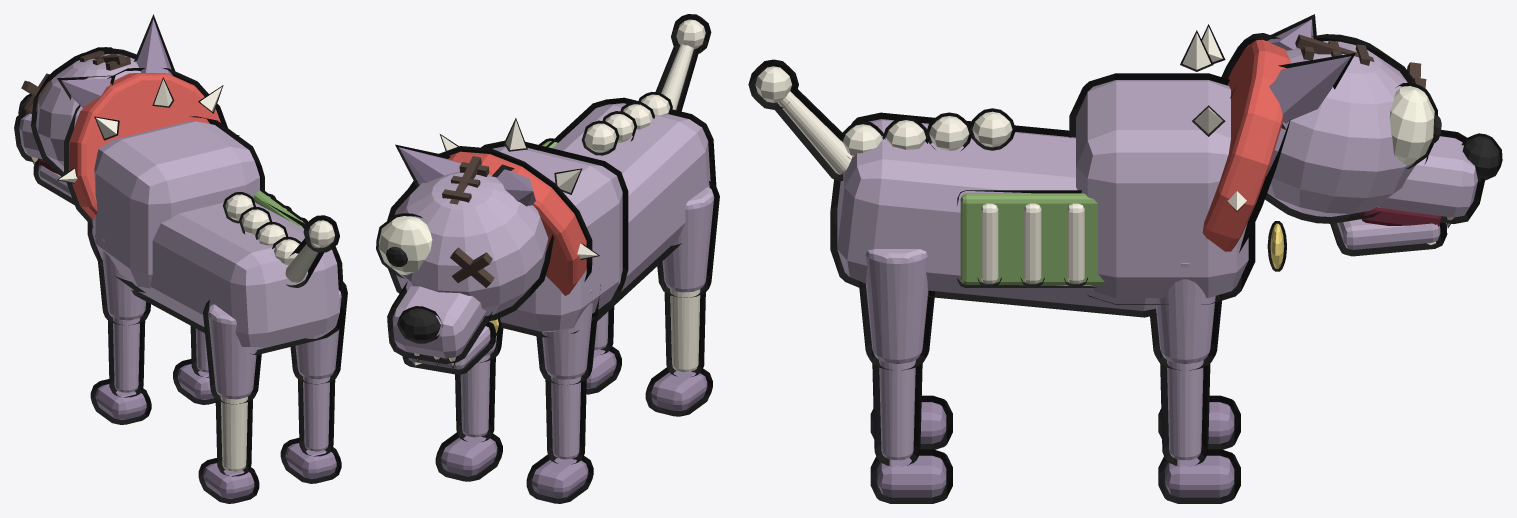
File: mutt_model.glb
3 renders of one model, left to right at view 1: azimuth 30°, elevation 25°; view 2: azimuth 150°, elevation 25°; view 3: azimuth 270°, elevation 25°, orthographic. The views are drawn at different scales.
Visible parts, largest first — view 1: Body, Head, LegBR, LegBL, LegFR, Tail, LegFL; view 2: Body, Head, LegBR, LegFR, LegFL, Tail, LegBL; view 3: Body, Head, LegBL, LegFL, Tail, LegFR, LegBR.
Part boxes in pixels (x1=…): Body: x1=57, y1=68, x2=344, y2=354; Head: x1=14, y1=14, x2=174, y2=204; LegBR: x1=198, y1=300, x2=262, y2=503; LegBL: x1=280, y1=282, x2=347, y2=483; LegFR: x1=90, y1=235, x2=151, y2=424; Tail: x1=285, y1=215, x2=339, y2=287; LegFL: x1=173, y1=326, x2=215, y2=404; Body: x1=408, y1=92, x2=716, y2=337; Head: x1=376, y1=144, x2=553, y2=374; LegBR: x1=645, y1=181, x2=719, y2=416; LegFR: x1=526, y1=284, x2=600, y2=503; LegFL: x1=435, y1=327, x2=503, y2=481; Tail: x1=655, y1=14, x2=711, y2=111; LegBL: x1=586, y1=306, x2=621, y2=394; Body: x1=830, y1=24, x2=1290, y2=317; Head: x1=1230, y1=14, x2=1502, y2=256; LegBL: x1=858, y1=249, x2=952, y2=503; LegFL: x1=1149, y1=263, x2=1240, y2=503; Tail: x1=748, y1=59, x2=852, y2=181; LegFR: x1=1158, y1=395, x2=1240, y2=449; LegBR: x1=870, y1=395, x2=952, y2=449.
Size of the model in its own units: 0.49 by 0.8649 by 1.31.
